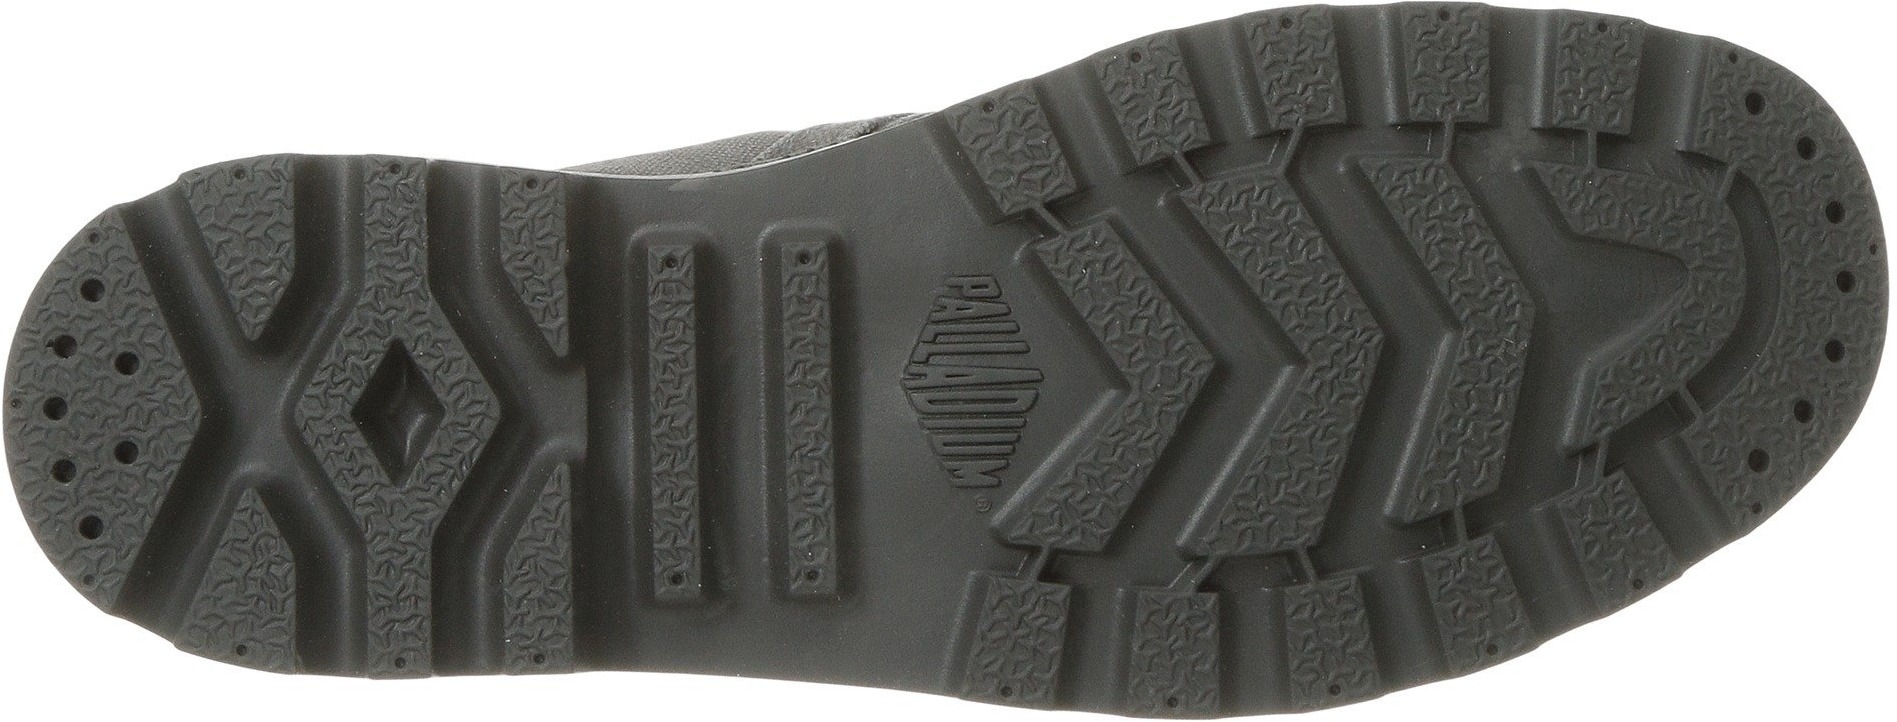chevron: (980, 160, 1551, 566)
